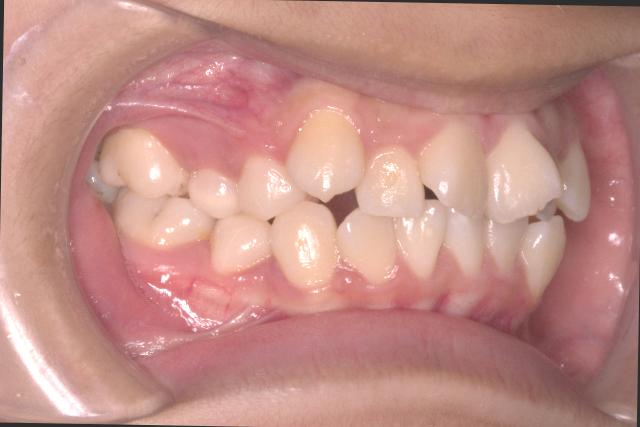canine class III 1/4: (266, 101, 402, 293)
molar class III 1/2: (88, 120, 216, 262)
